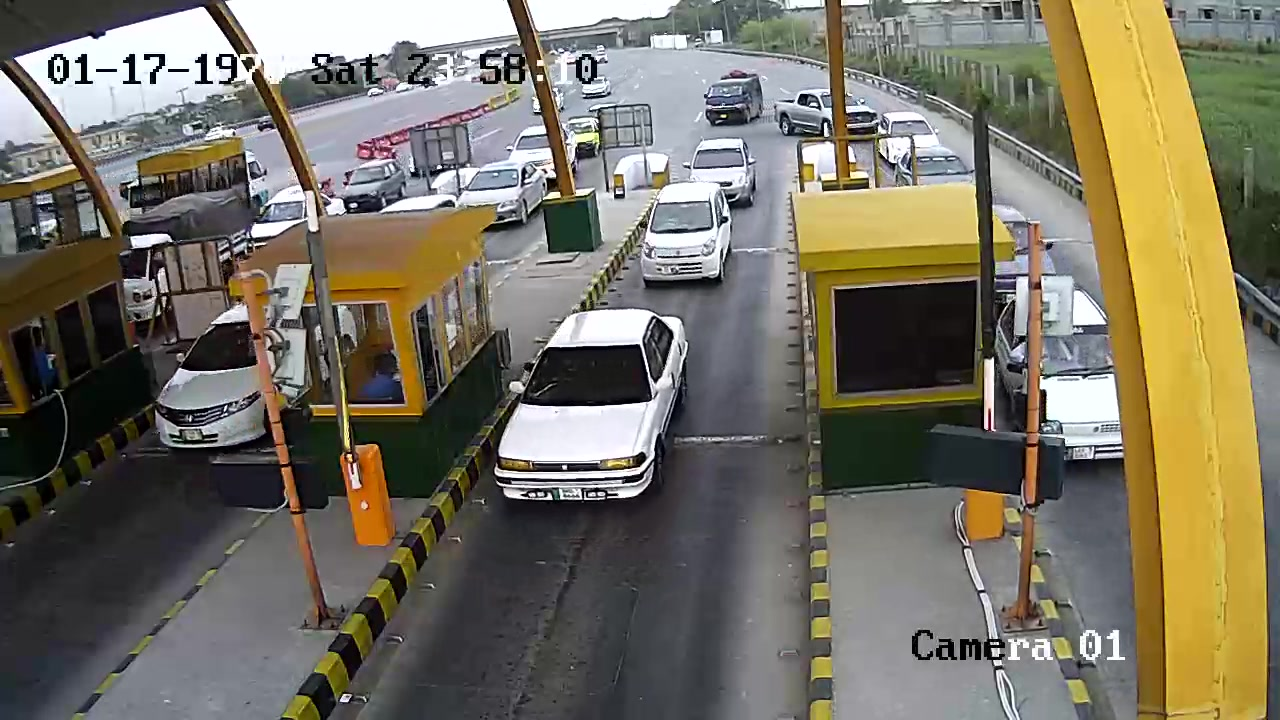F1: (483, 309, 693, 535)
